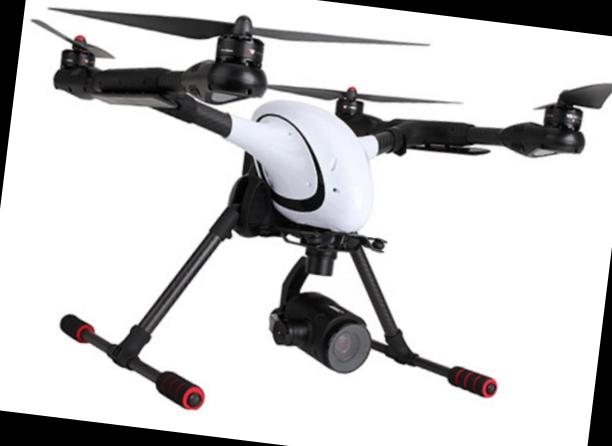drone: (10, 0, 612, 244)
